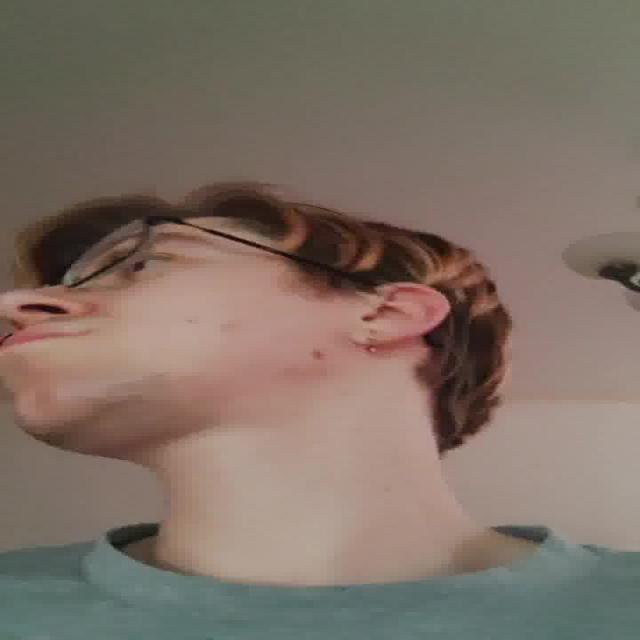earlobe: (351, 280, 452, 348)
